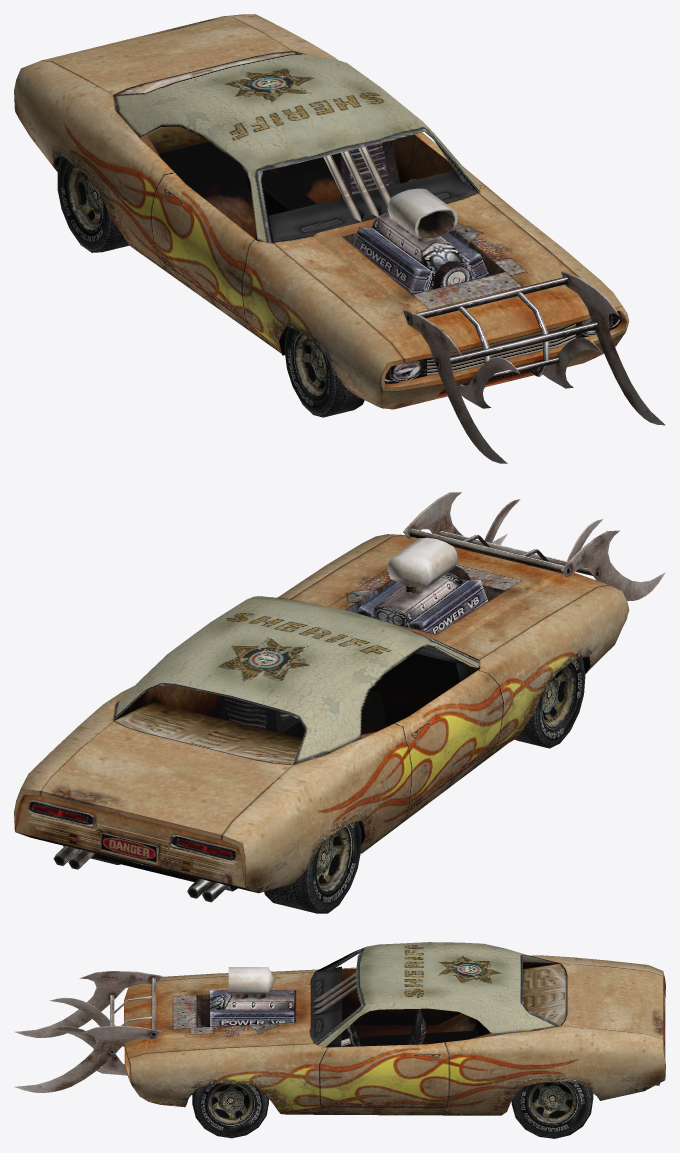
File: sheriff_challenger.FBX
3 views of the same model, one above another, from view 1: azimuth 30°, elevation 25°; view 2: azimuth 150°, elevation 25°; view 3: azimuth 270°, elevation 25° (orthographic). The views are drawn at different scales.
Parts seen in each view (by area): view 1: body, wheel_04, wheel_03; view 2: body, wheel_03, wheel_04; view 3: body, wheel_02, wheel_01.
Boxes of the visible parts, x1,y1,x2,y2 form: body: [14, 14, 665, 463]; wheel_04: [284, 327, 364, 417]; wheel_03: [57, 157, 128, 252]; body: [14, 492, 665, 902]; wheel_03: [264, 822, 361, 913]; wheel_04: [515, 658, 585, 748]; body: [14, 942, 665, 1115]; wheel_02: [511, 1082, 593, 1138]; wheel_01: [192, 1083, 268, 1138].
Bounding box in the file's own units: 2276 × 1473 × 6769.
